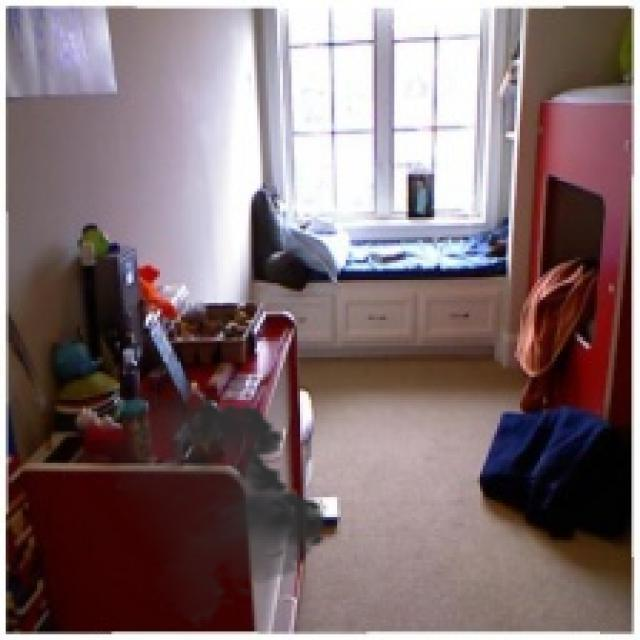Smoke: (71, 383, 338, 631)
